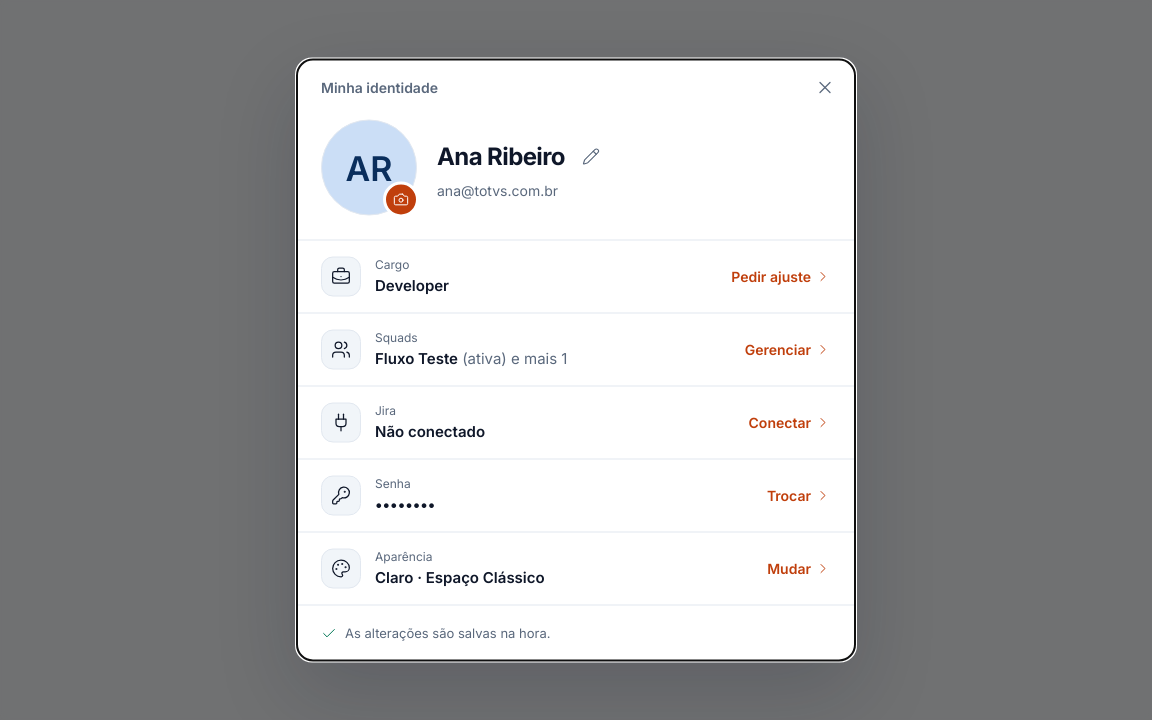
Scenario: UserProfileModal: linha Cargo › envia o pedido de ajuste ao Suporte com a squad ativa
Step 1. Click the button with aria-label "Pedir ajuste, Cargo" → x=781, y=276, box [719,254,843,298]
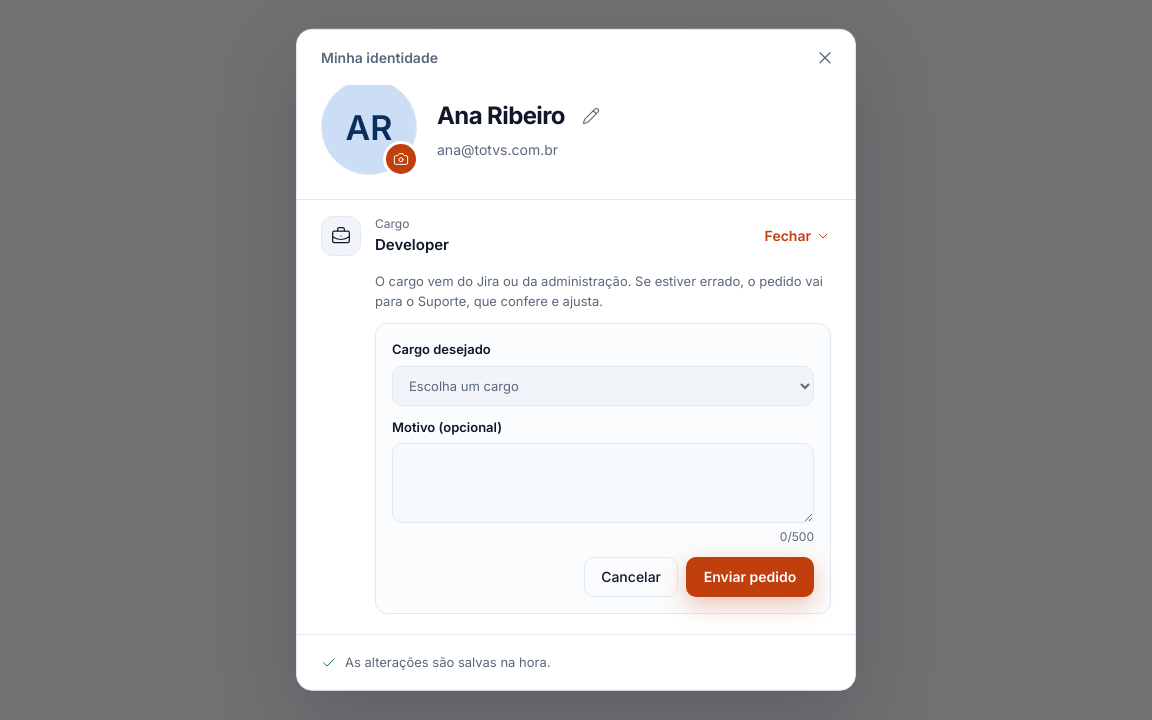
Step 2. Select "Analista de QA" in the dropdown labelled "Cargo desejado" → x=603, y=385, box [392,365,814,405]
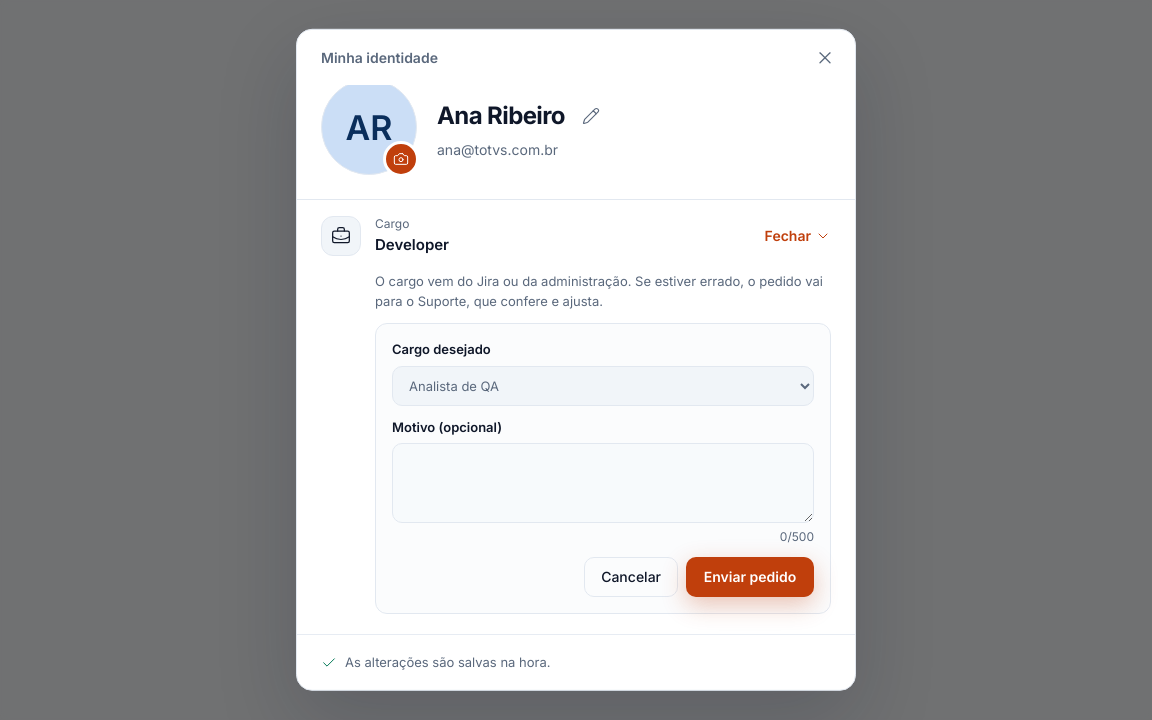
Step 3. Click the button "Enviar pedido" → x=750, y=577, box [686,557,814,597]
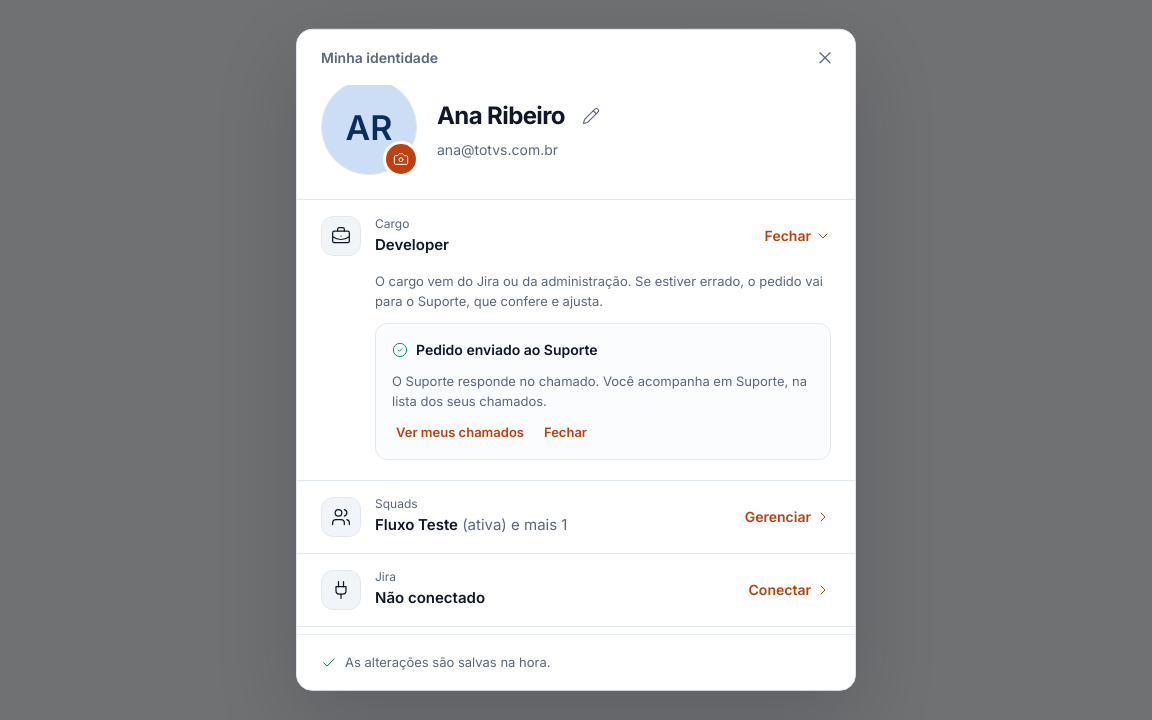
Check: the text "Pedido enviado ao Suporte" is shown, box [392,341,598,358]
